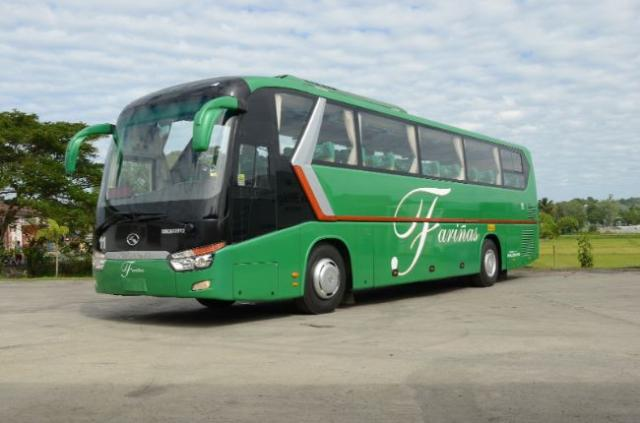bus: (73, 74, 530, 312)
